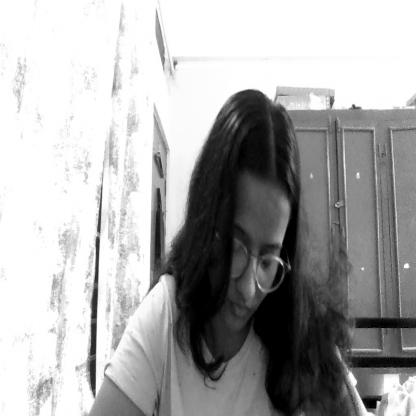Distracted: (198, 103, 297, 340)
